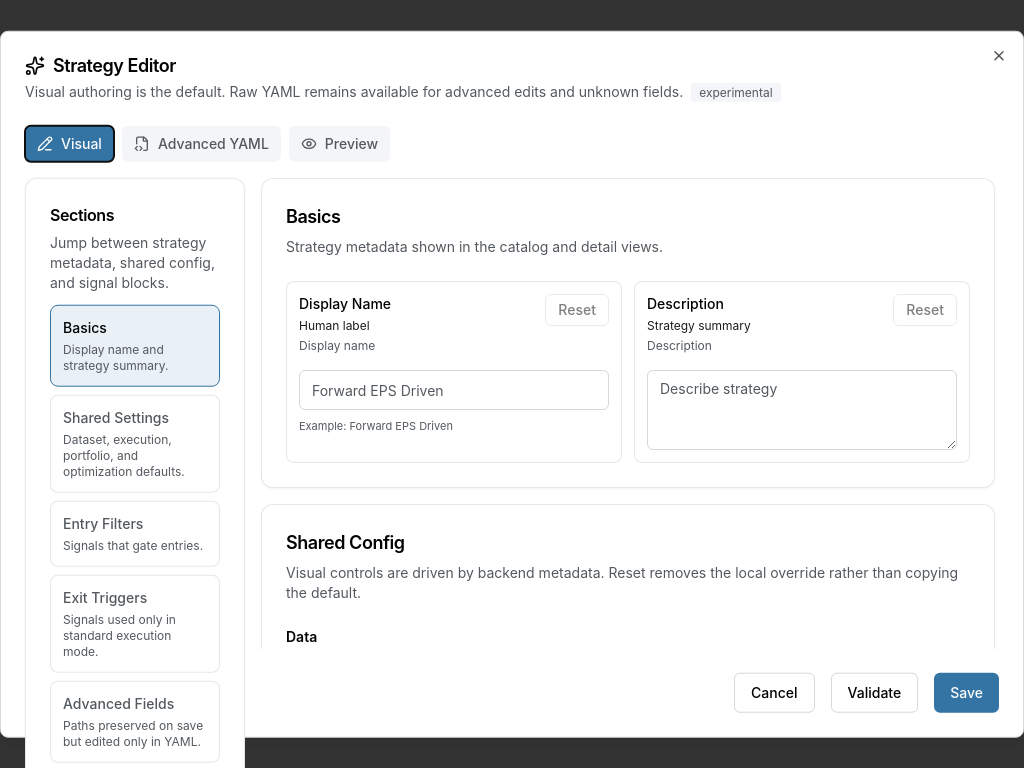
Test: StrategyEditor › shows stale preview state and update errors before rerunning validation
Click the button "Validate": (874, 692) [831,672,918,712]
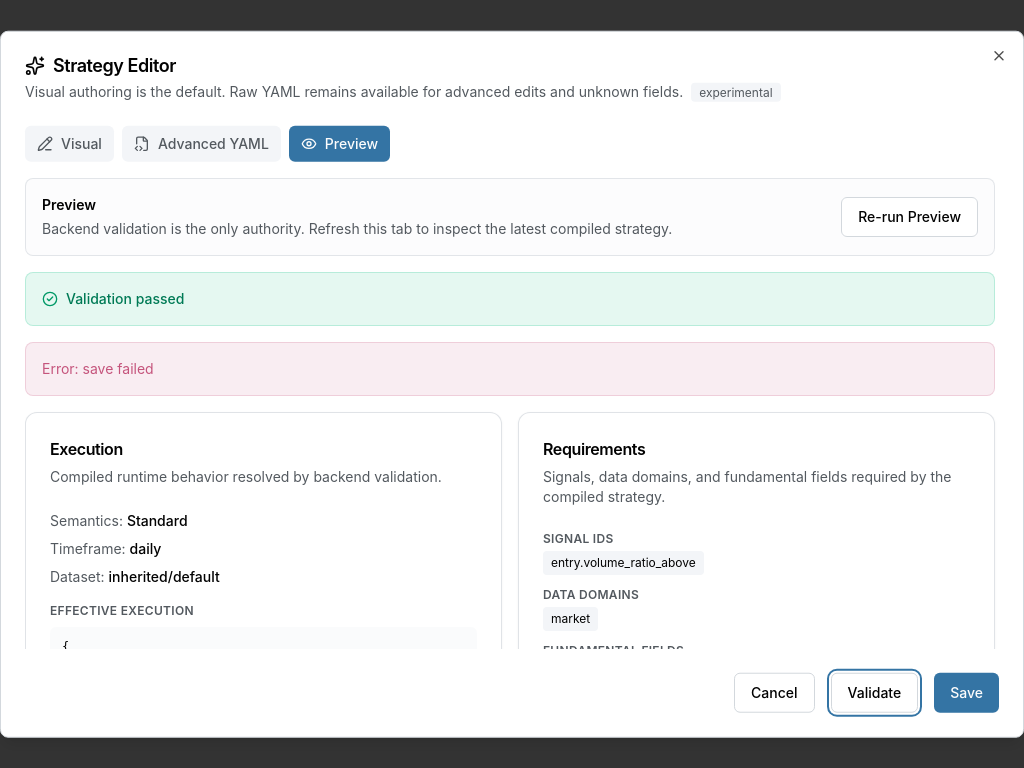
Check: the text "Validation passed" is shown, box [66,289,184,309]
Click the tab "Visual": (69, 144) [25,126,114,162]
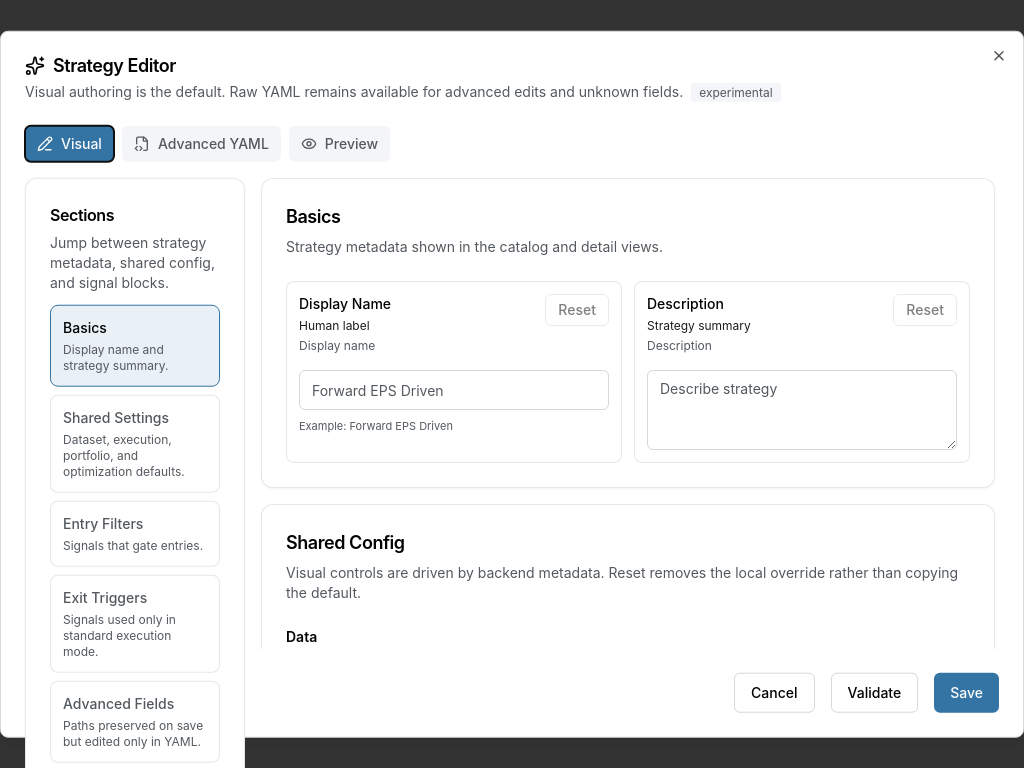
In the text box named "Description": (802, 410) [647,370,957,450], type "Changed description"
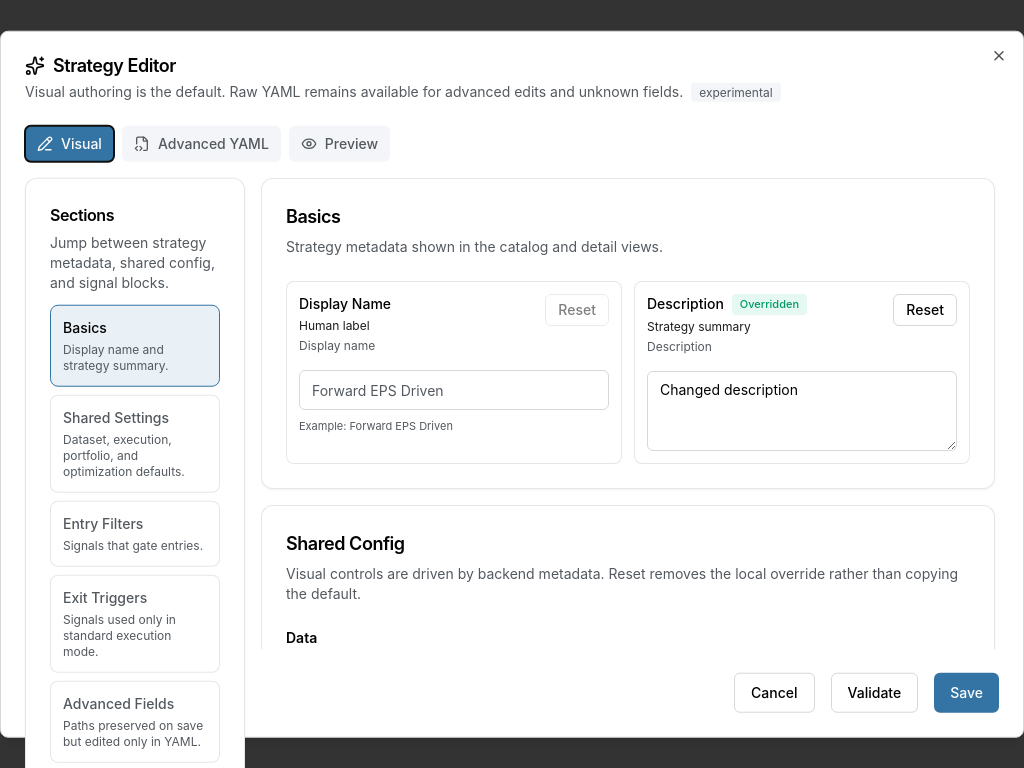
Click the tab "Preview": (339, 144) [289,126,390,162]
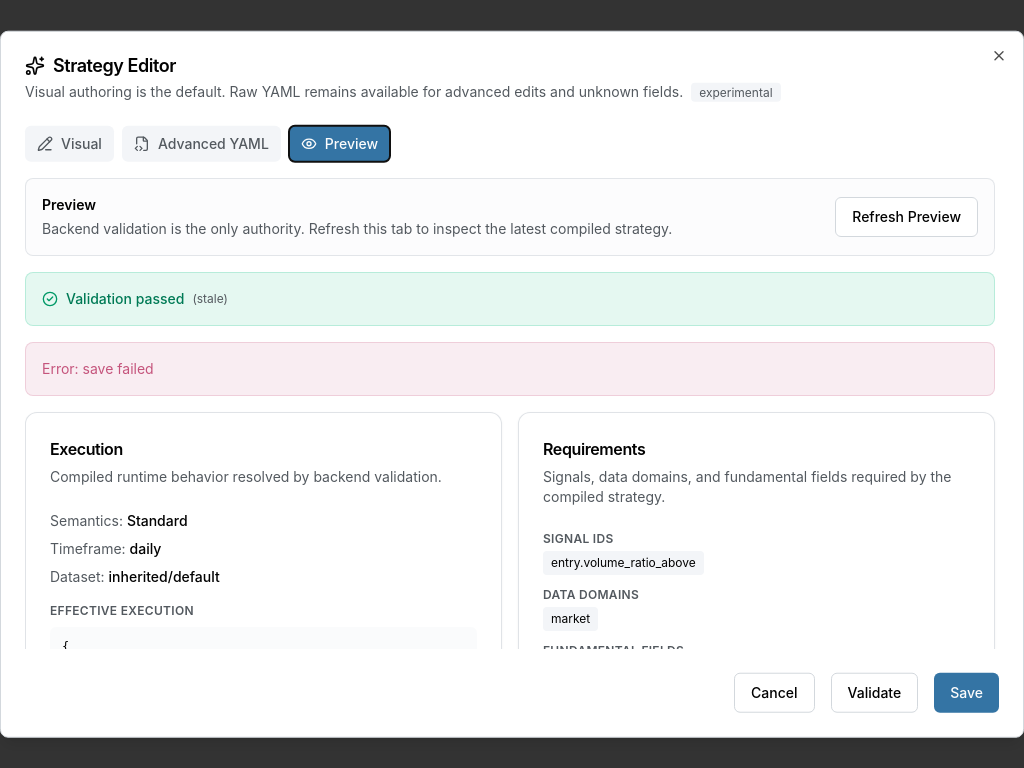
Check: the text "(stale)" is shown, box [192,291,228,307]
Check: the button "Refresh Preview" is shown, box [835,197,978,237]
Check: the text "Error: save failed" is shown, box [25,342,995,396]
